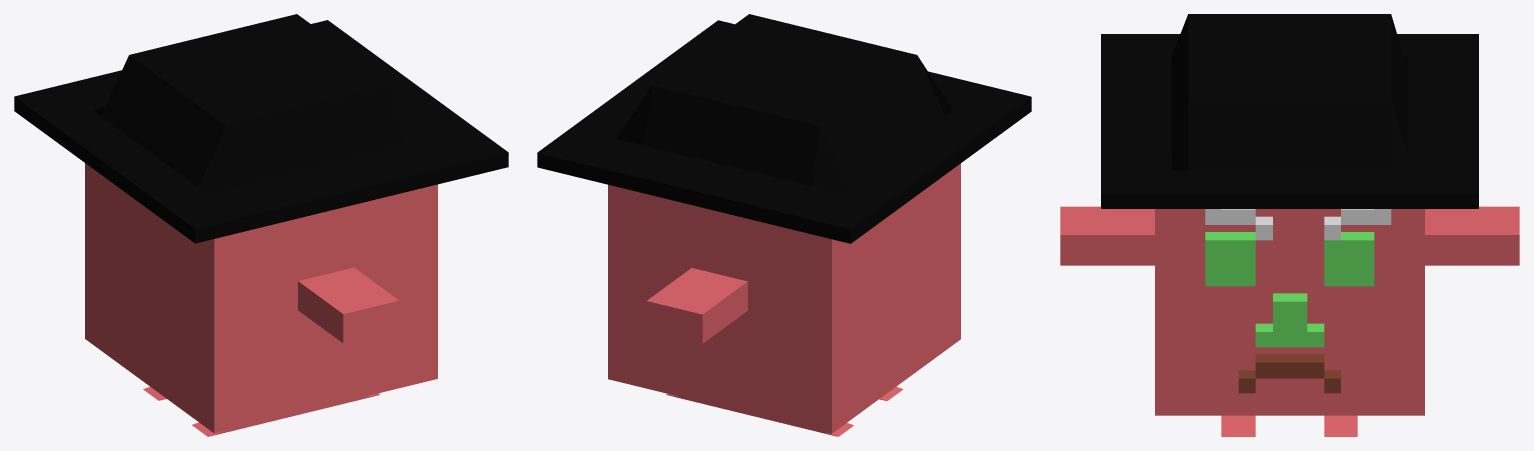
File: Enemy324.fbx
The picture shows the model from 3 angles, left to right: view 1: azimuth 30°, elevation 25°; view 2: azimuth 150°, elevation 25°; view 3: azimuth 270°, elevation 25°; orthographic projection. The views are drawn at different scales.
Parts seen in each view (by area): view 1: Cube.007; view 2: Cube.007; view 3: Cube.007.
Boxes of the visible parts, x1,y1,x2,y2 form: Cube.007: [14, 14, 508, 436]; Cube.007: [537, 14, 1031, 436]; Cube.007: [1060, 14, 1519, 436].
Size of the model in its own units: 280 by 275 by 340.
